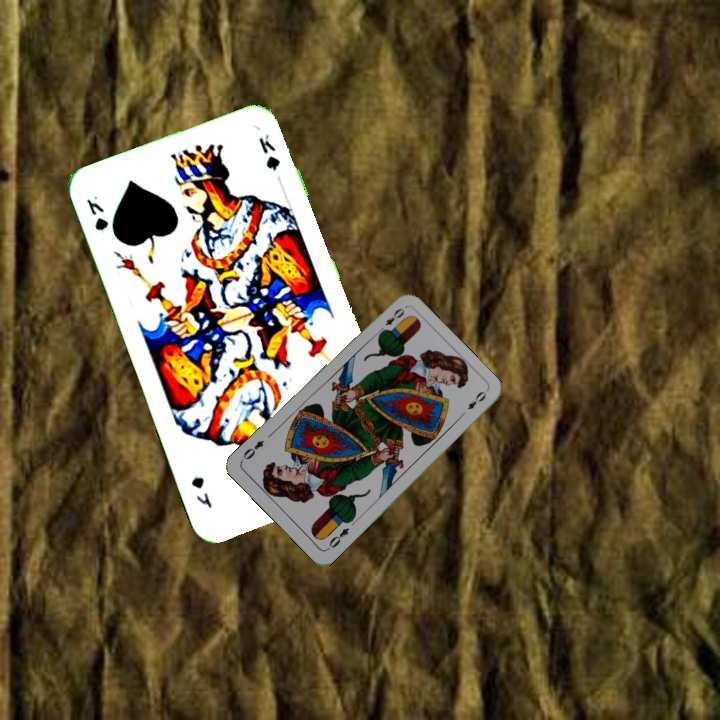EO: (374, 304, 407, 336), (323, 524, 352, 553)
GK: (82, 192, 111, 234)
